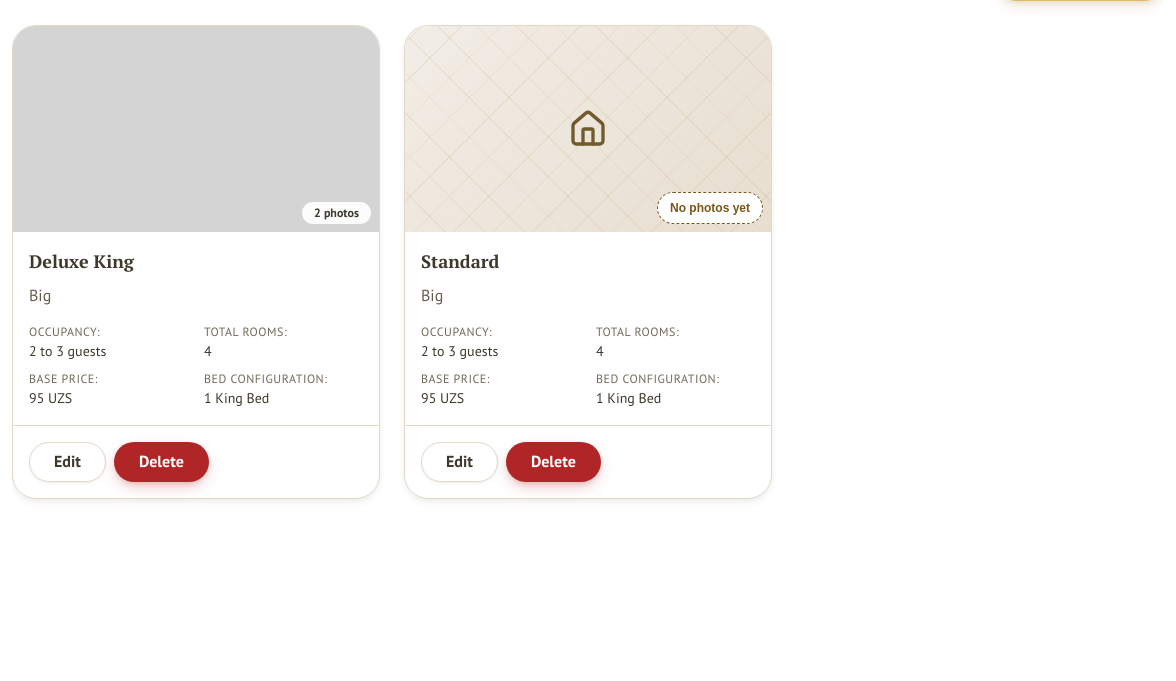
Test case: PartnerRoomsManagement photos › the flag opens the room type so the owner can add photos
This screenshot has width=1176, height=681.
Click the button with aria-label "Add photos to Standard" at (710, 208), box [657,192,763,224]
(page scrolled)
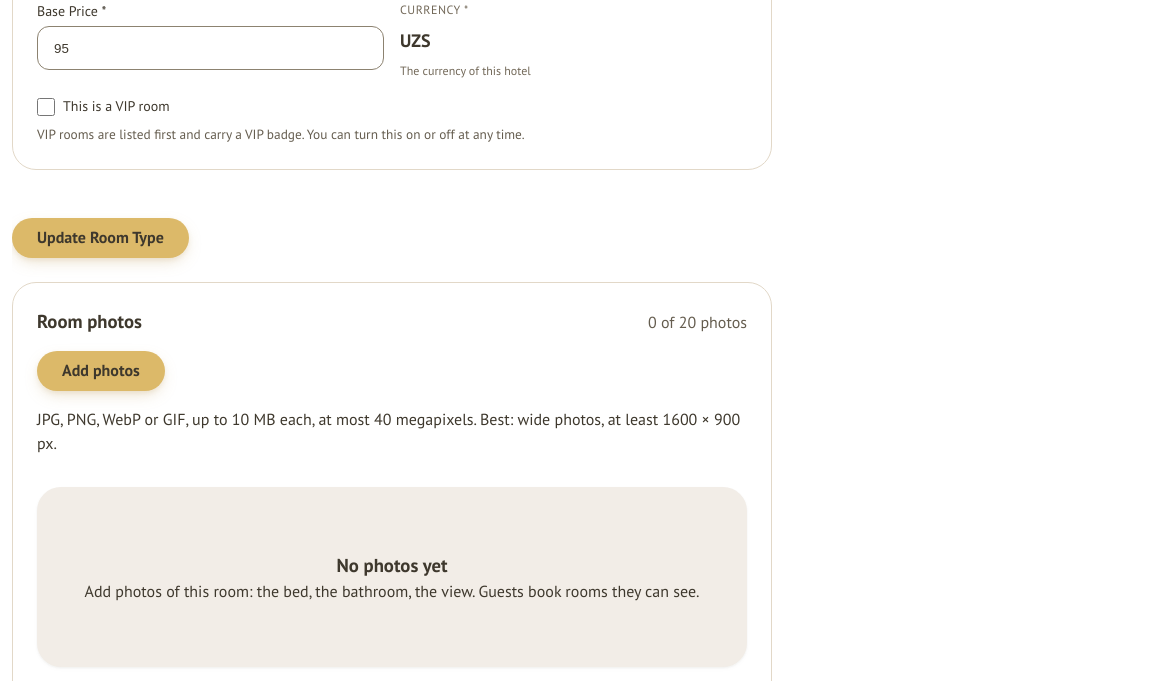
Now the heading "Room photos" is shown, box [37,307,142,335]
